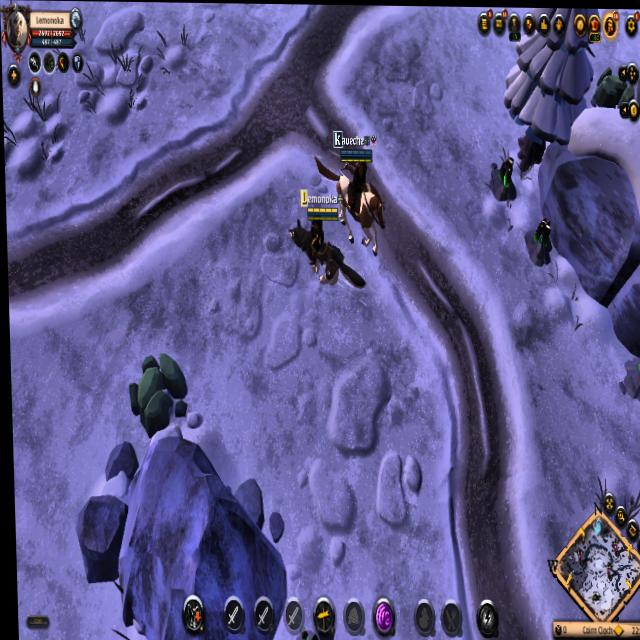ore tier 3: (487, 150, 520, 210), (521, 216, 553, 274)
rock tier 3: (124, 351, 188, 438)
